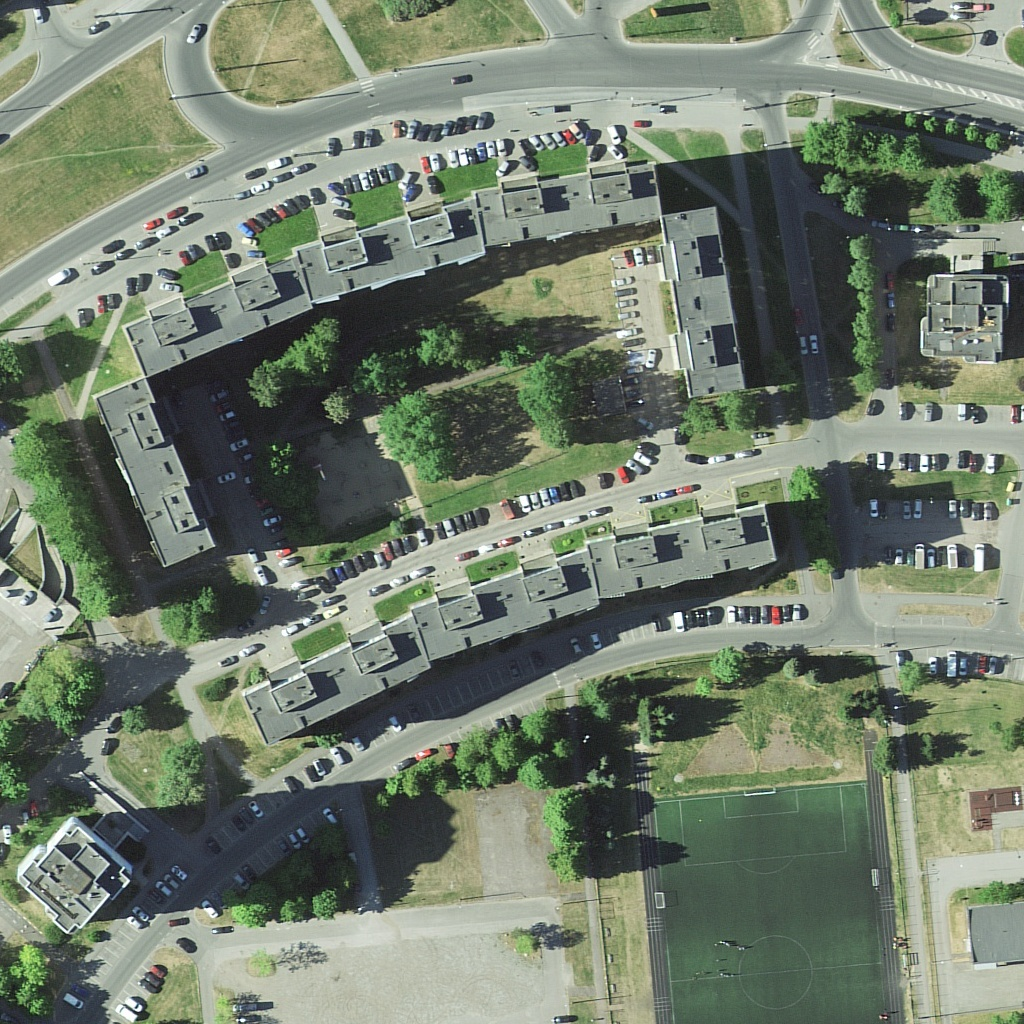building: (241, 615, 436, 748), (121, 253, 315, 382), (91, 381, 217, 570), (415, 549, 602, 659), (297, 201, 488, 304), (661, 203, 754, 402), (583, 502, 776, 596), (475, 163, 655, 251), (17, 813, 135, 933), (921, 261, 1009, 371)
